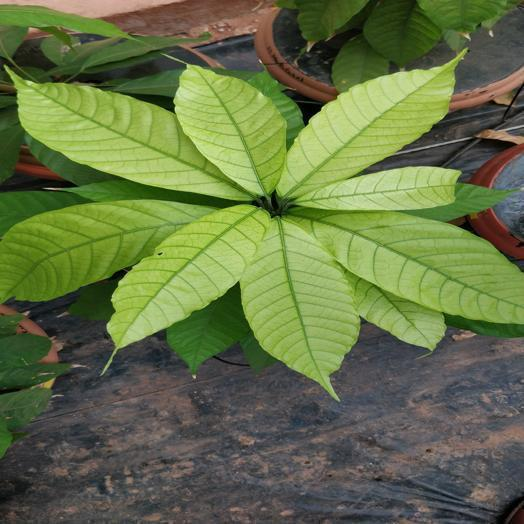Healthy Leaf: (166, 286, 249, 375), (364, 0, 440, 66), (0, 192, 87, 236), (332, 35, 388, 91)
Iron: (11, 72, 250, 199), (288, 208, 523, 322), (277, 58, 458, 198), (108, 205, 268, 351), (240, 219, 359, 399), (0, 200, 213, 299), (175, 66, 285, 196), (346, 272, 445, 349), (295, 167, 458, 209)
